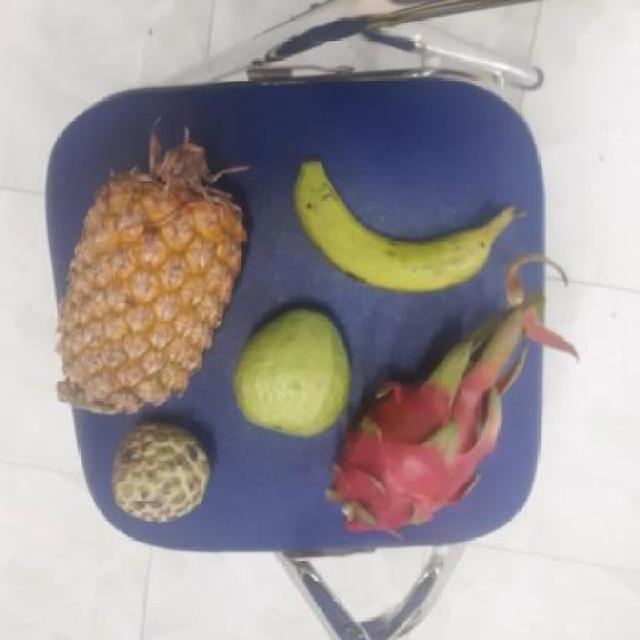banana: (289, 168, 523, 290)
dragon fruit: (331, 374, 497, 534)
guava: (233, 309, 356, 437)
pineapple: (60, 167, 248, 415)
sugar apple: (112, 424, 215, 524)
